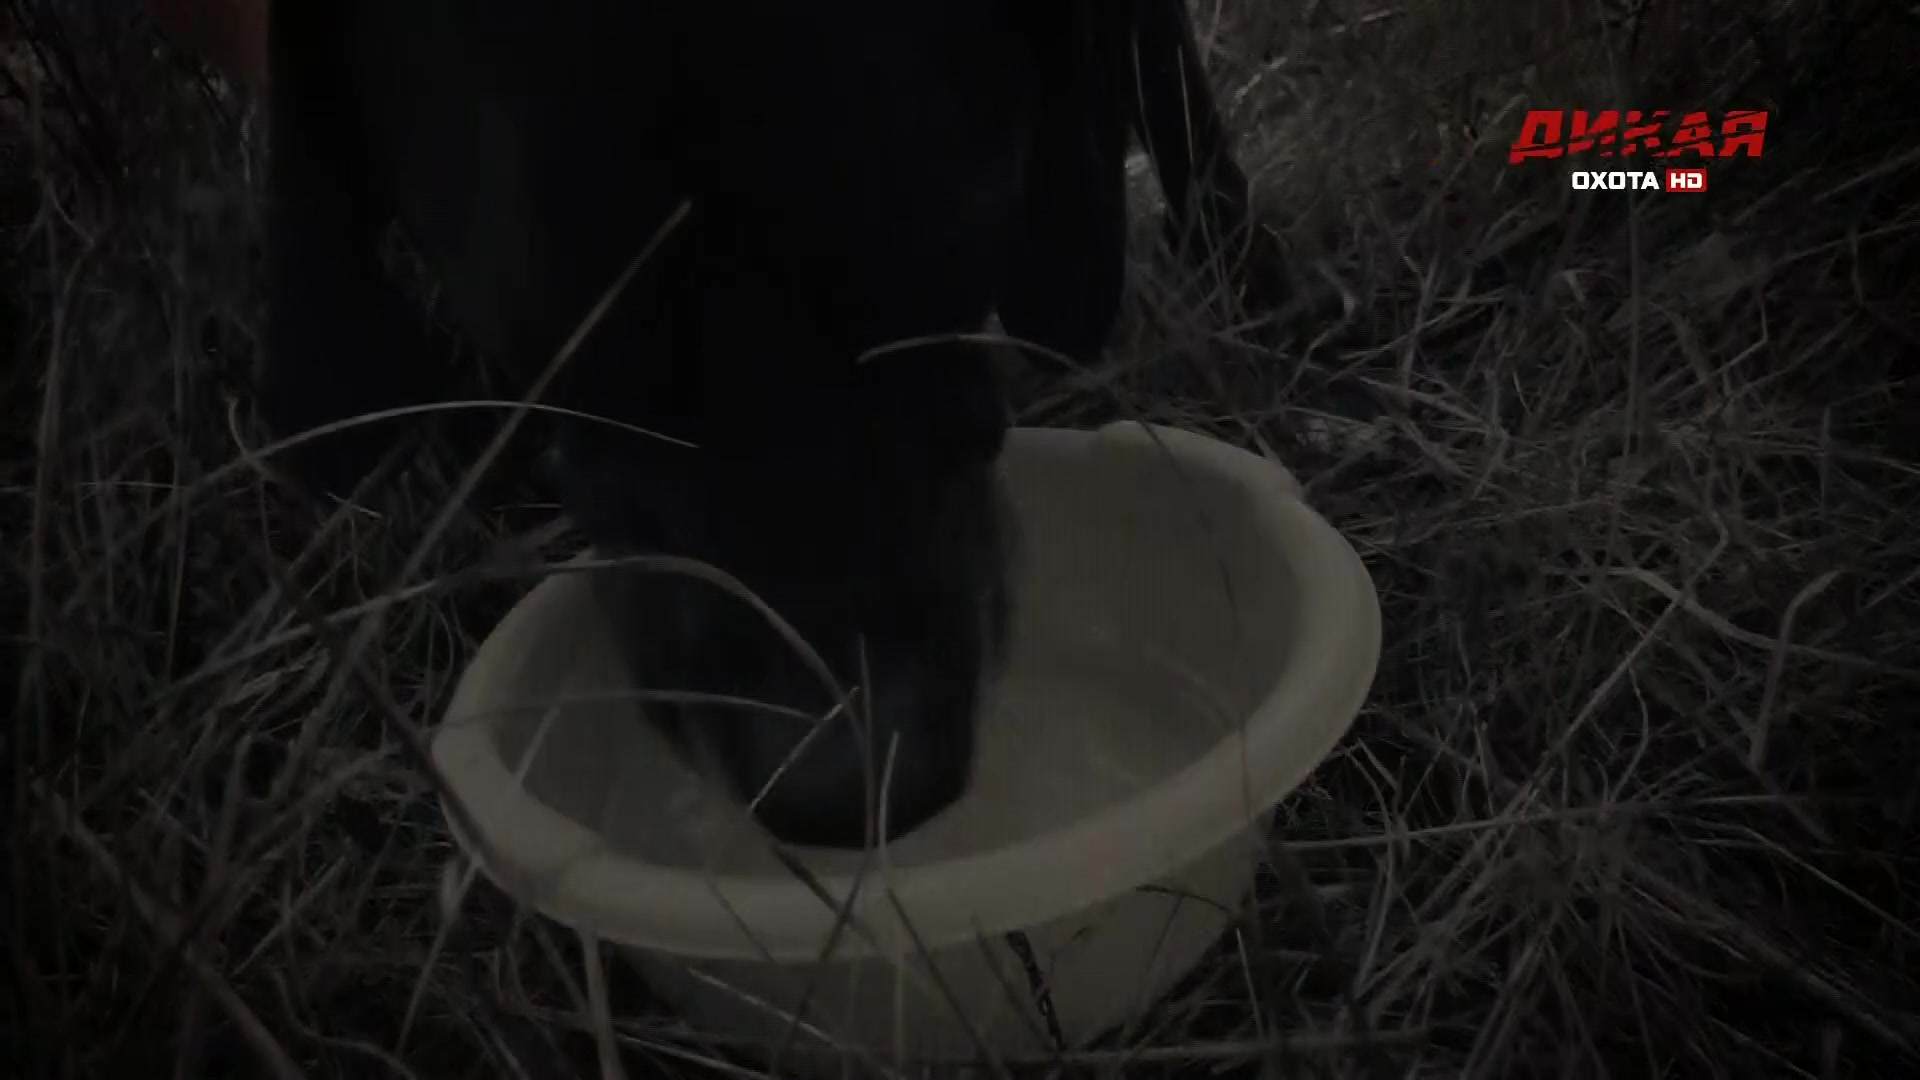Dikaya_Ohota_HD: (1502, 103, 1775, 196)
